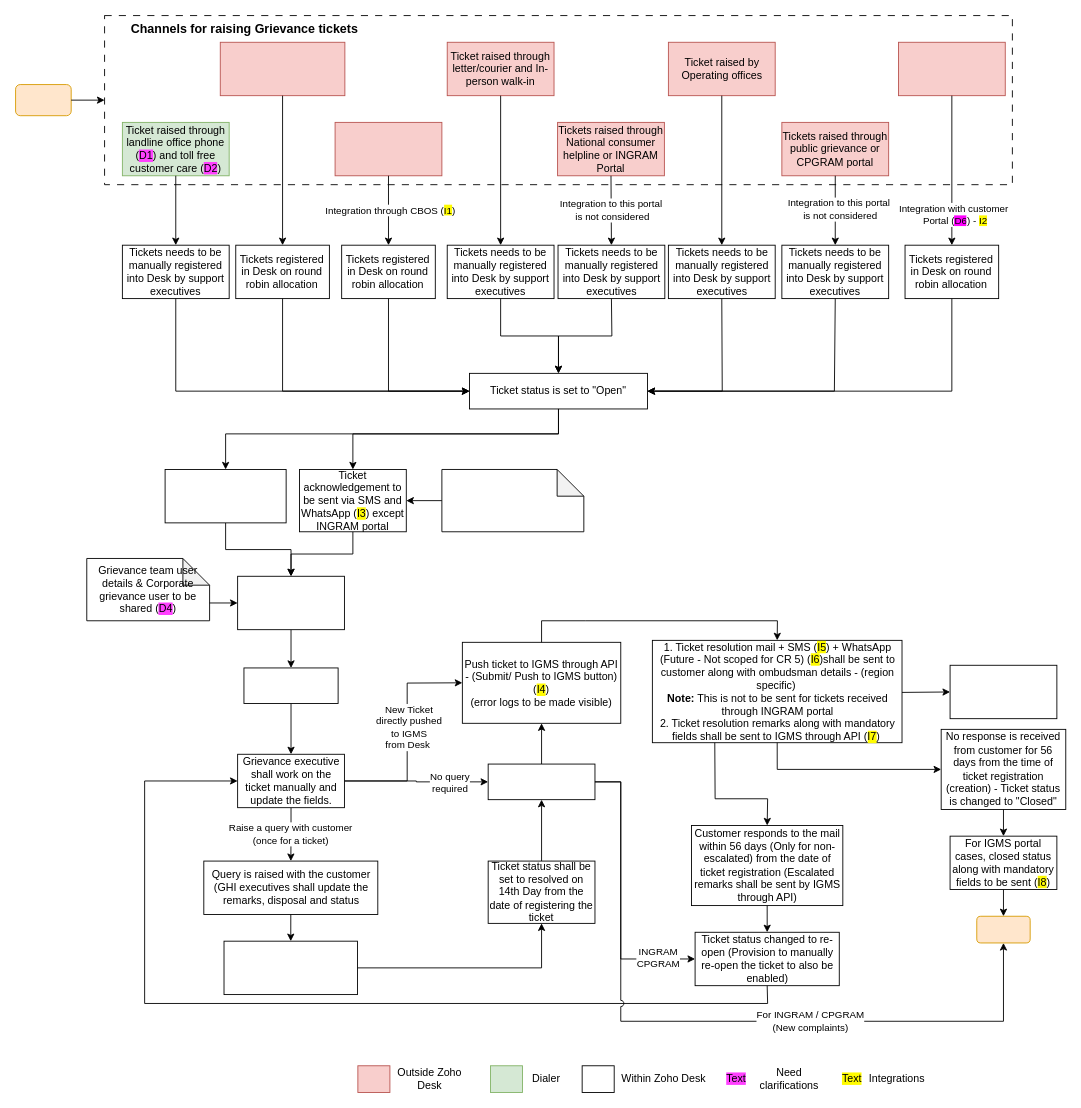
Some shapes in this 1081 by 1108 pixel diagram are drawn without their labels. The shapes that lost their labels are listed below. From the top down, each one's box as (x1, y1, x2, y2) in pixels, then its label:
(219, 41, 345, 96): Tickets raised through Grievance mail ID (D3 - gro@galaxyhealth.com )
(898, 41, 1005, 96): Ticket raised through company website ( D6 - Customer Portal )
(15, 84, 71, 116): Start
(334, 121, 442, 176): Tickets raised through IGMS portal of IRDAI
(164, 469, 286, 523): Ticket acknowledgement to be sent through mail except INGRAM portal
(441, 469, 584, 532): SMS & WhatsApp template ID to be shared ( D3 )
(237, 575, 344, 630): Ticket allocation - round robin method
(243, 667, 338, 704): Ticket status changed to In-progress.
(949, 664, 1057, 719): Customer feedback mail to be sent and response to be captured. ( D5 )
(487, 763, 595, 800): GHI executives shall resolve the ticket
(976, 915, 1030, 943): End
(223, 940, 358, 995): Ticket status mail shall be sent to customer along with ombudsman details
